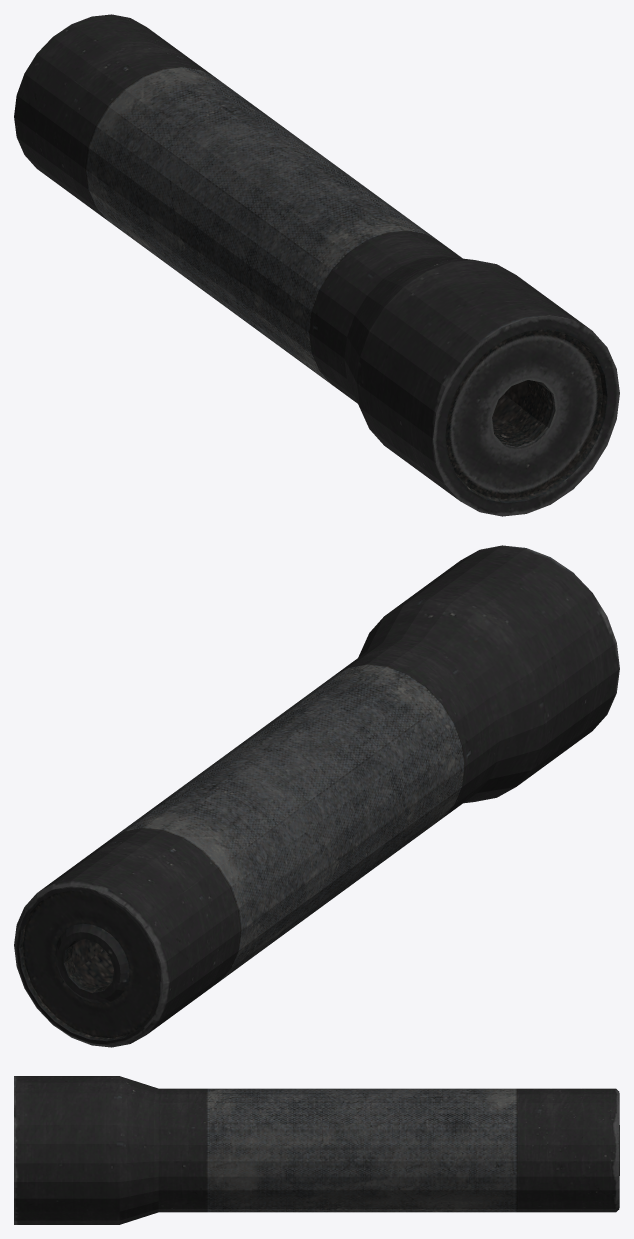
The picture shows the model from 3 angles, top to bottom: view 1: azimuth 30°, elevation 25°; view 2: azimuth 150°, elevation 25°; view 3: azimuth 270°, elevation 25°; orthographic projection. The views are drawn at different scales.
Parts seen in each view (by area): view 1: TW_59bfc5c886f7743bf6794e62_PZ_Import; view 2: TW_59bfc5c886f7743bf6794e62_PZ_Import; view 3: TW_59bfc5c886f7743bf6794e62_PZ_Import.
Boxes of the visible parts, box(x1,y1,x2,y2) form: TW_59bfc5c886f7743bf6794e62_PZ_Import: box(14, 14, 619, 516); TW_59bfc5c886f7743bf6794e62_PZ_Import: box(14, 545, 619, 1047); TW_59bfc5c886f7743bf6794e62_PZ_Import: box(14, 1076, 619, 1224).
Size of the model in its own units: 0.0257 by 0.1043 by 0.0257.
Materials: 1 (1 with a texture image).
